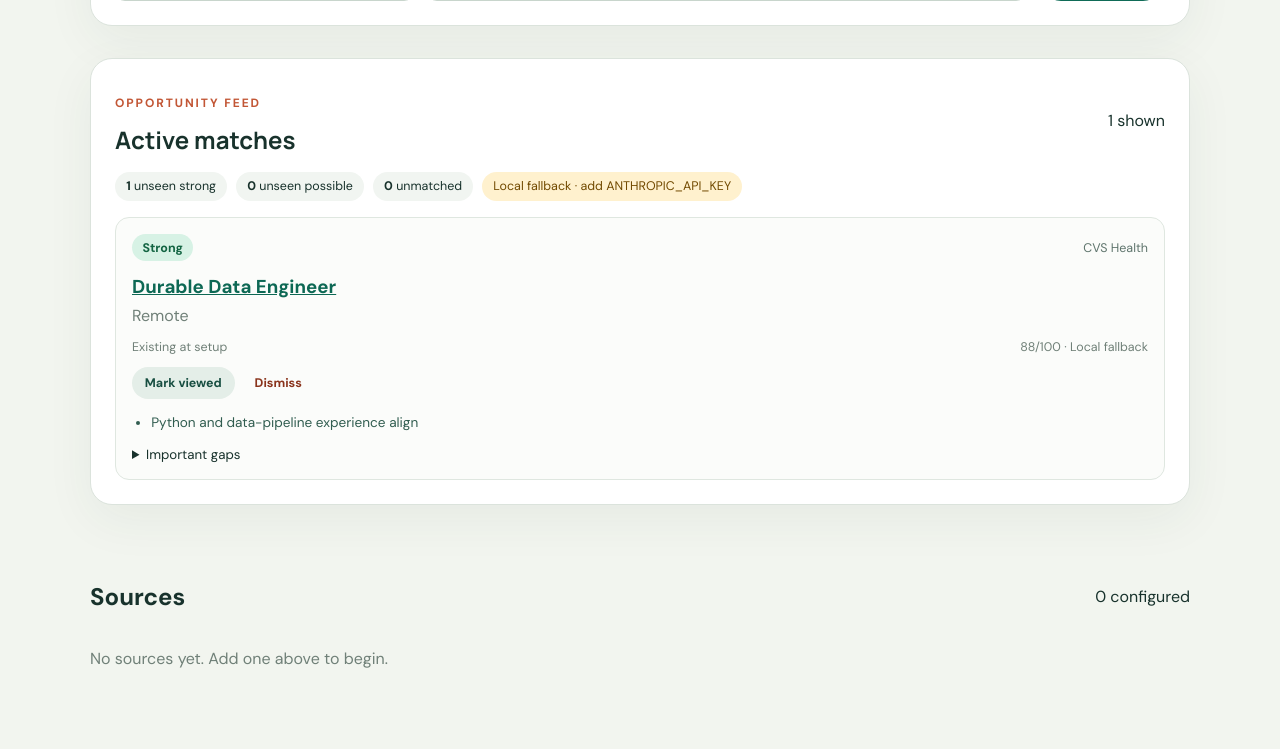
Test: marks jobs viewed, dismisses them, and restores them
The width and height of the screenshot is (1280, 749).
(page scrolled)
Click the button "Mark viewed". click: point(183, 383)
box: [132,367,235,399]
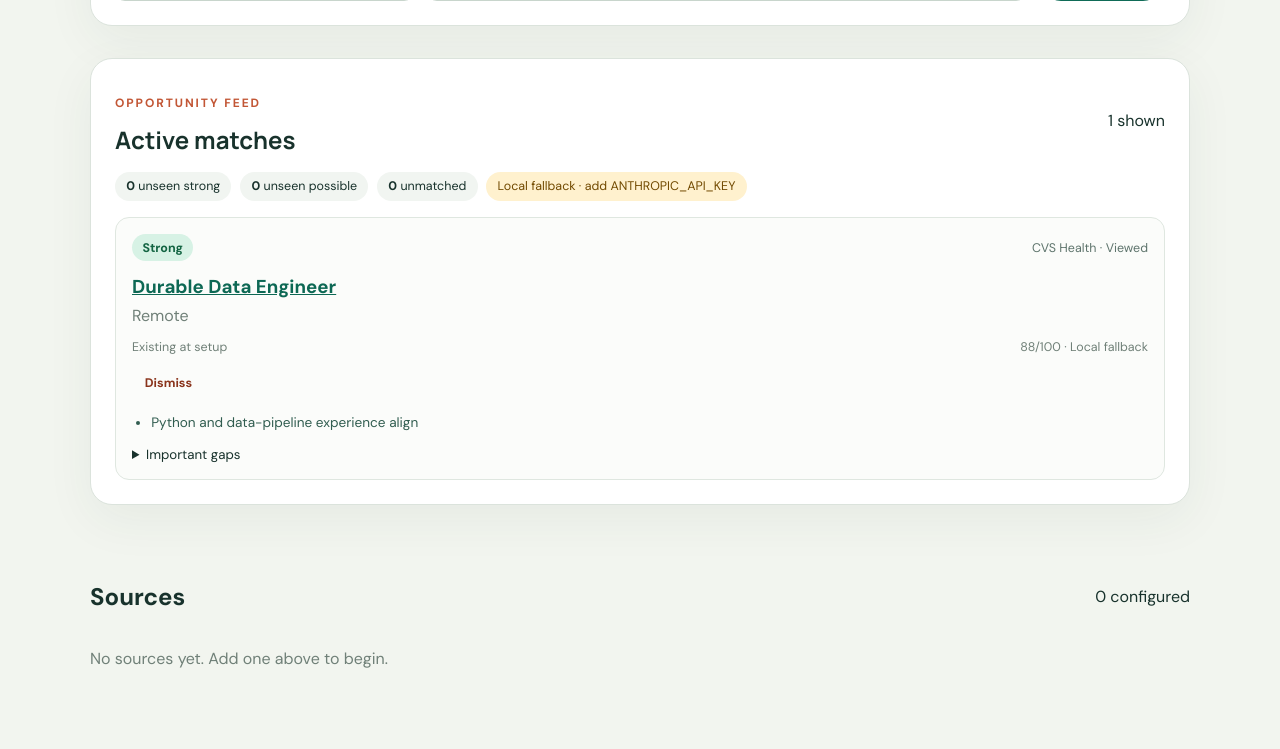
Expected: the text "CVS Health · Viewed" is shown, [1032,240,1148,256]
Click the button "Dismiss". click: point(168, 383)
box: [132,367,205,399]
(page scrolled)
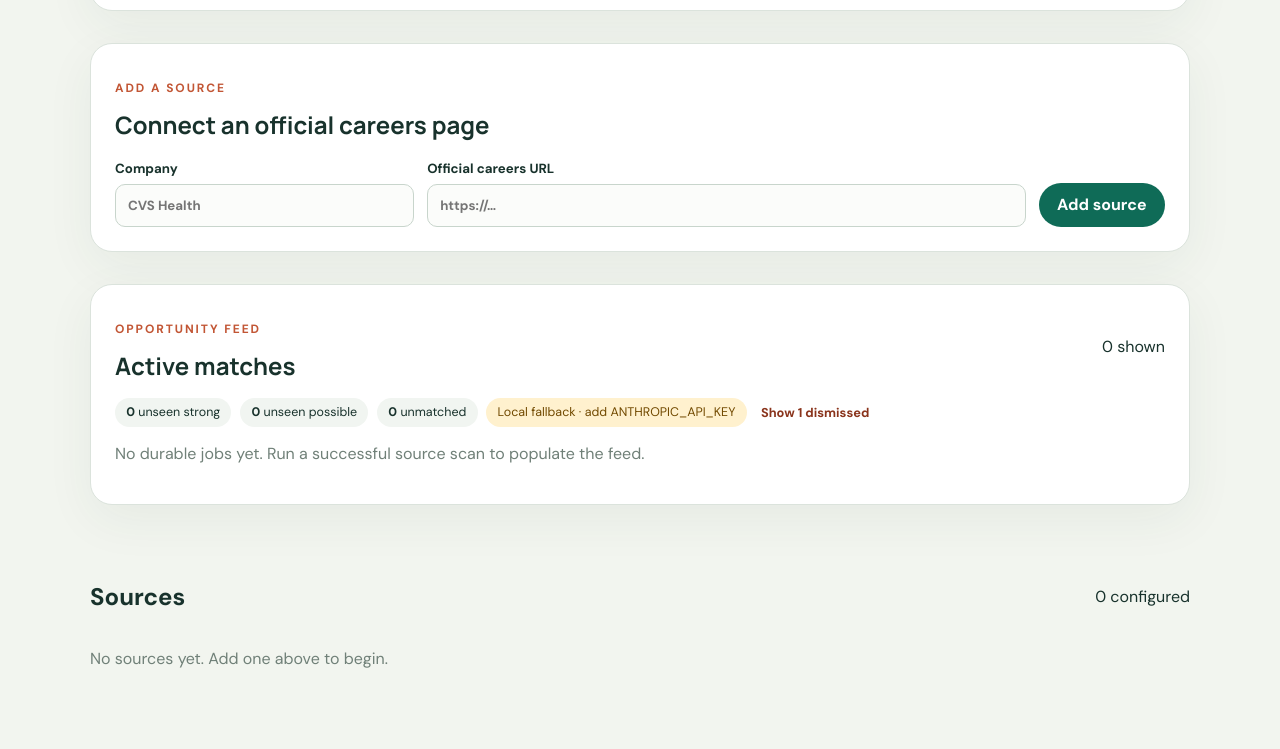
Expected: the button "Show 1 dismissed" is shown
Expected: the link "Durable Data Engineer" is gone
Click the button "Show 1 dismissed". click: point(815, 412)
box: [755,398,875,427]
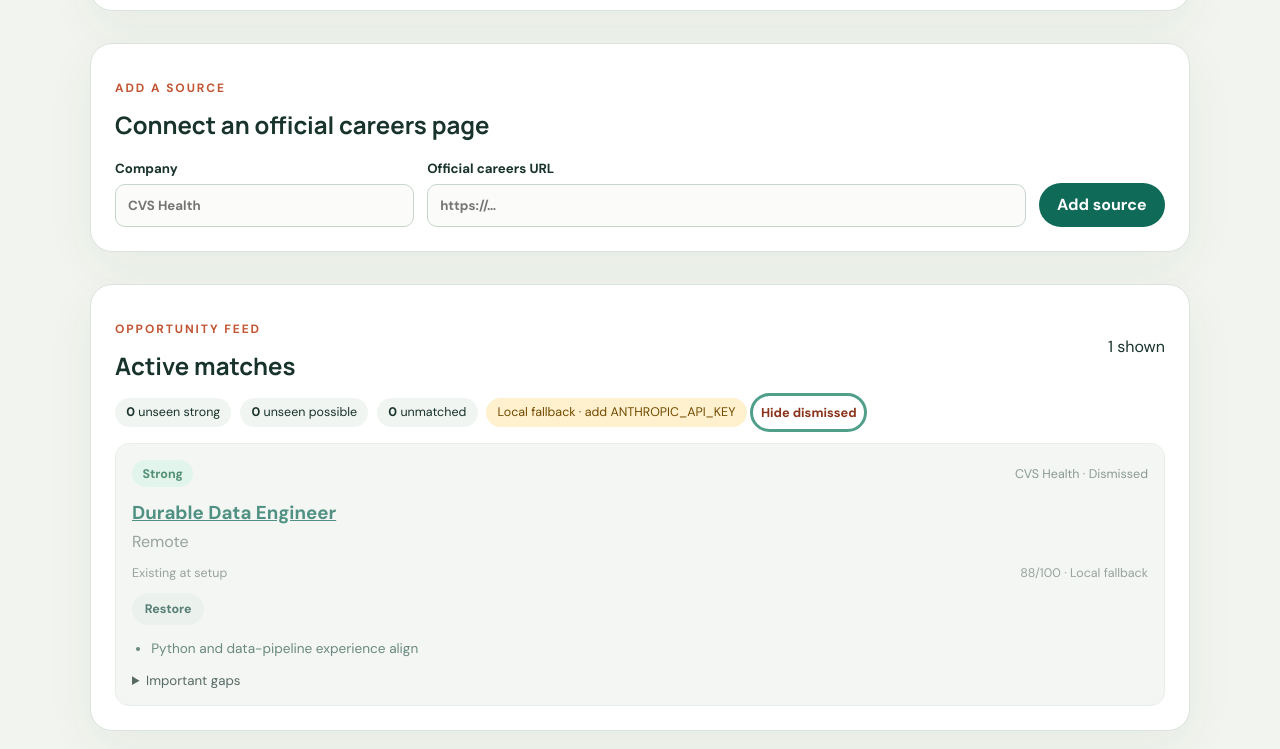
Expected: the text "CVS Health · Dismissed" is shown, [1015,466,1148,482]
Click the button "Restore". click: point(168, 609)
box: [132,593,204,625]
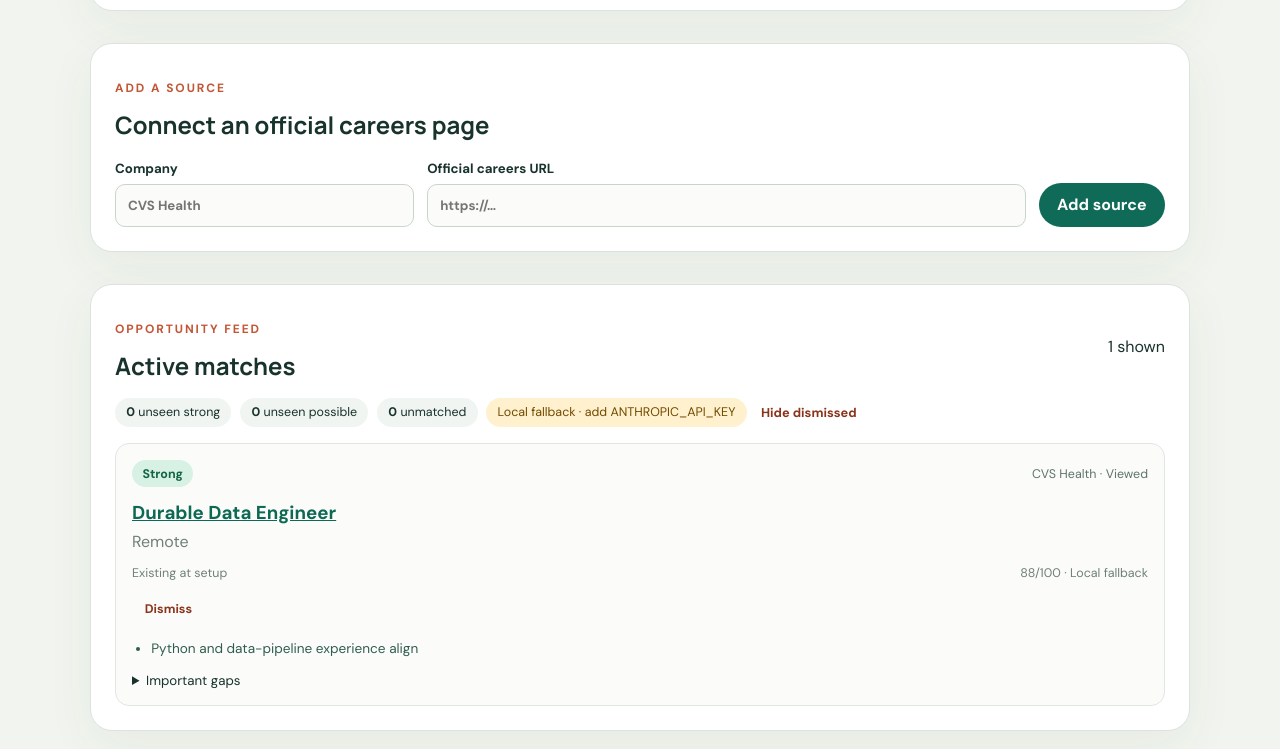
Expected: the button "Dismiss" is shown, [132,593,205,625]
